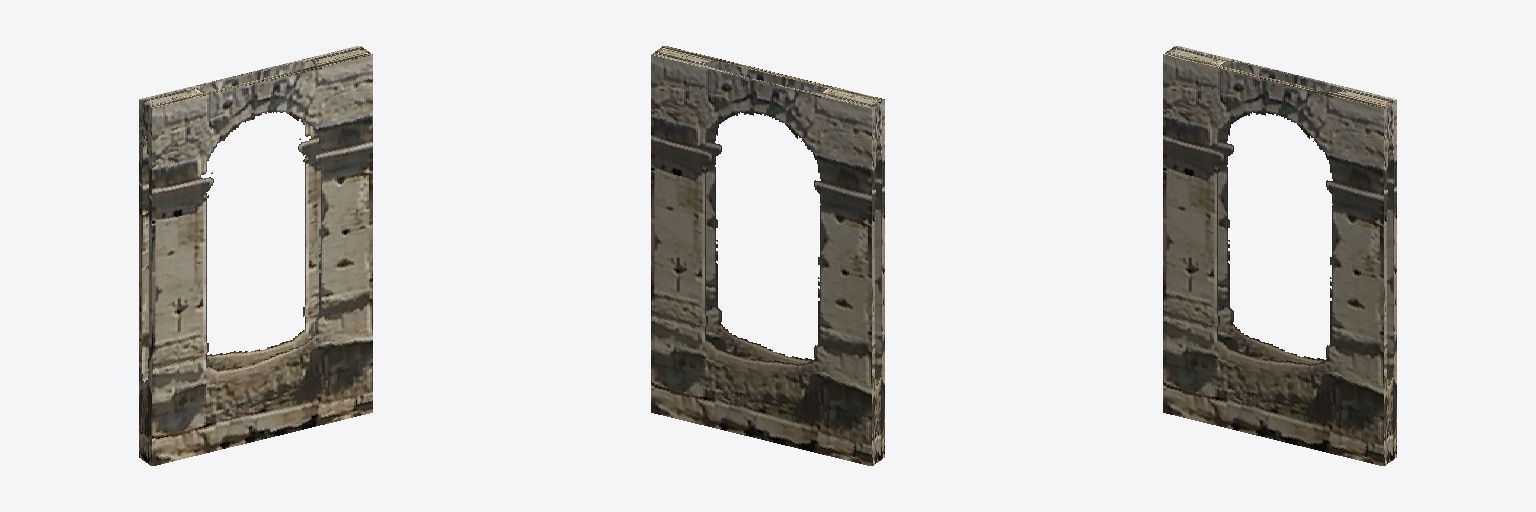
The picture shows the model from 3 angles: view 1: azimuth 30°, elevation 25°; view 2: azimuth 150°, elevation 25°; view 3: azimuth 330°, elevation 25°; orthographic projection.
Parts seen in each view (by area): view 1: Box; view 2: Box; view 3: Box.
Part boxes in pixels (left/top/right/bottom): Box: left=139, top=46, right=372, bottom=465; Box: left=651, top=46, right=884, bottom=465; Box: left=1163, top=46, right=1396, bottom=465.
Bounding box in the file's own units: 1.29 × 2 × 0.1303.
Materials: 1 (1 with a texture image).